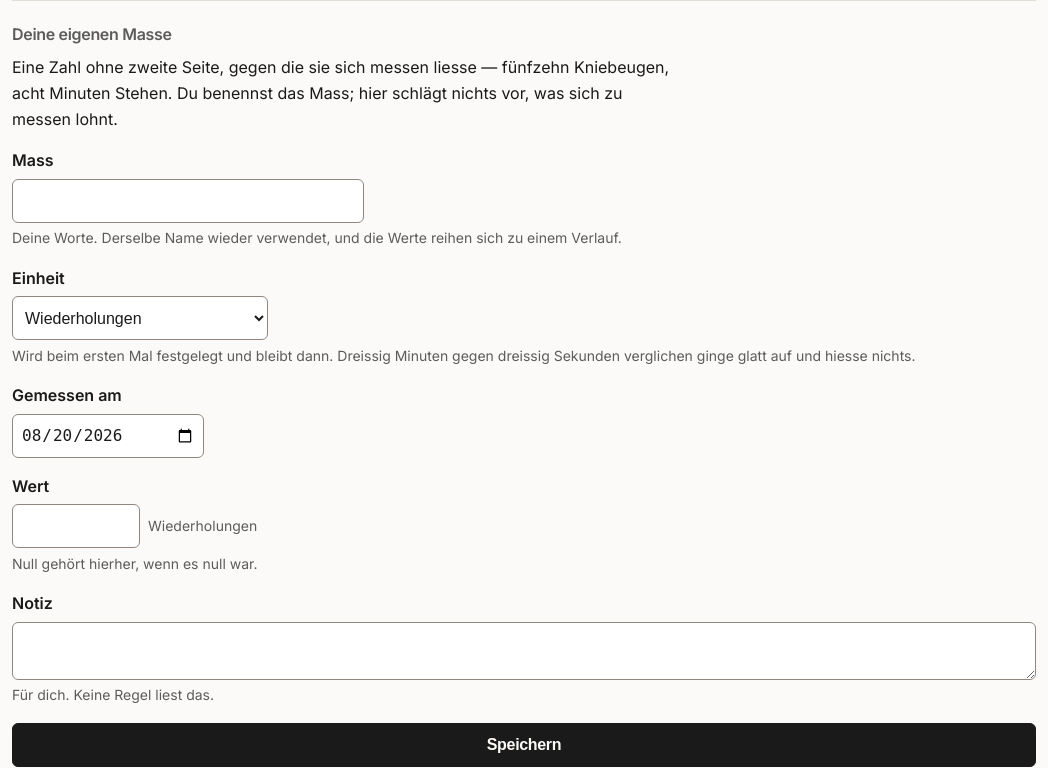
it: die Einheit friert ein, sobald das Mass sie hat › friert auch bei anderer Schreibweise ein
Type "stehen" into the field labelled "Mass" at {"x": 188, "y": 201}, box [12, 179, 364, 223]
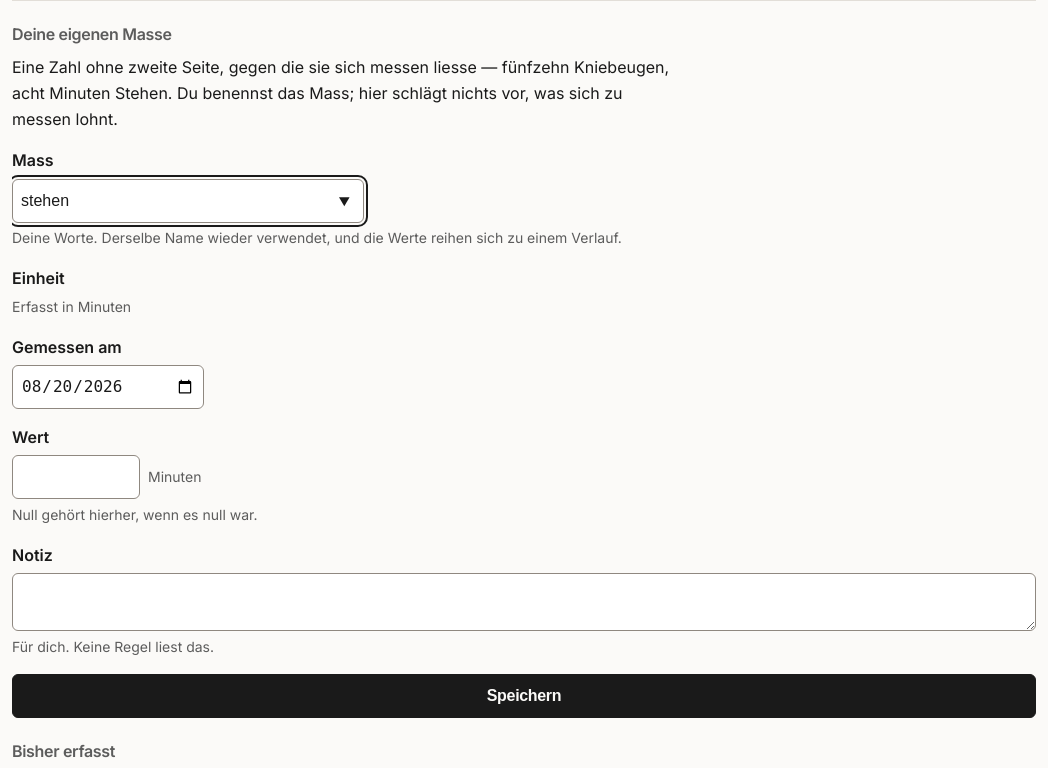
Check: the text "Erfasst in Minuten" is shown, box [12, 298, 131, 315]
